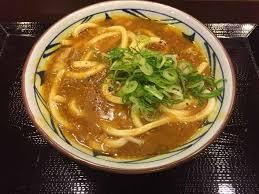curry: (21, 1, 235, 173)
